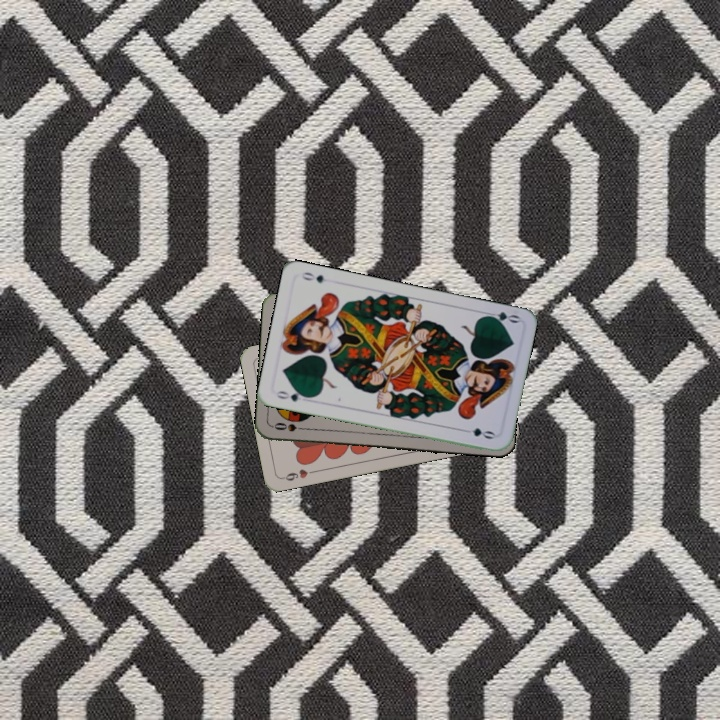GO: (480, 308, 522, 327), (272, 387, 313, 404)
H9: (279, 465, 319, 483)
SO: (270, 419, 310, 434)
